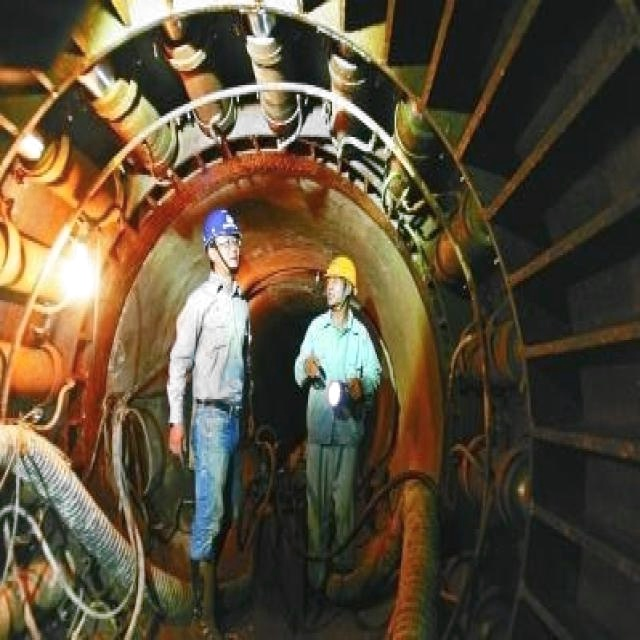Sin_Casco_Mascarrilla: (204, 207, 241, 277), (324, 253, 357, 315)
